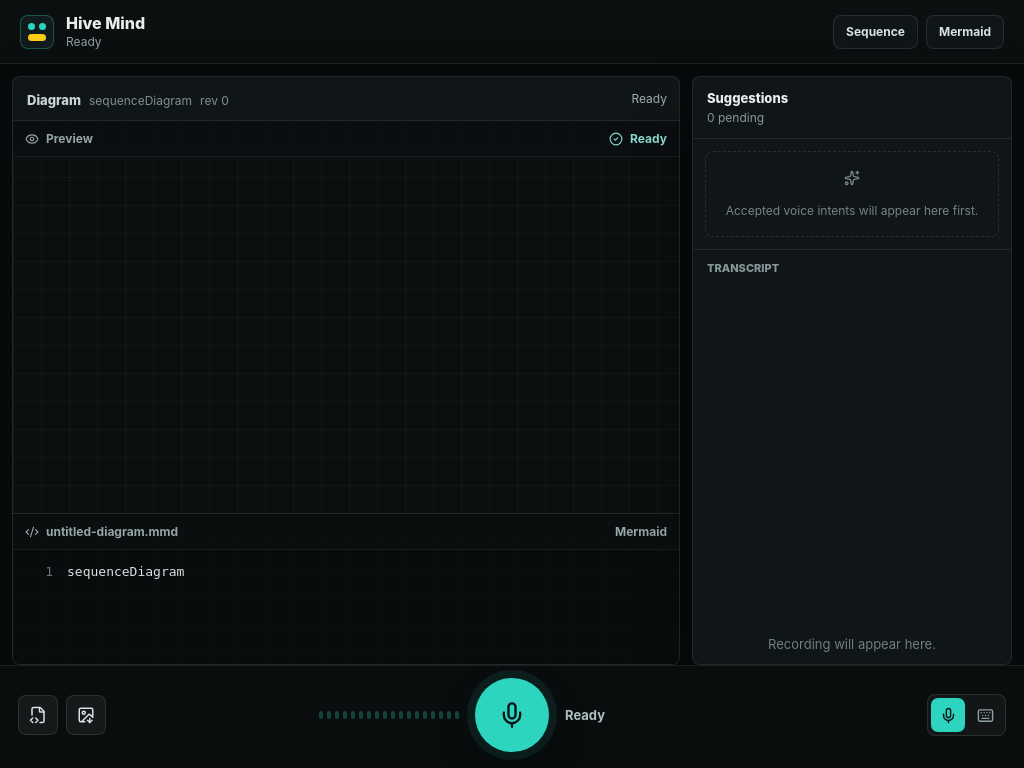
Hive Mind app › records speech and creates a validated suggestion without changing the source
Click the button named "start recording" at (512, 715), box [475, 678, 549, 752]
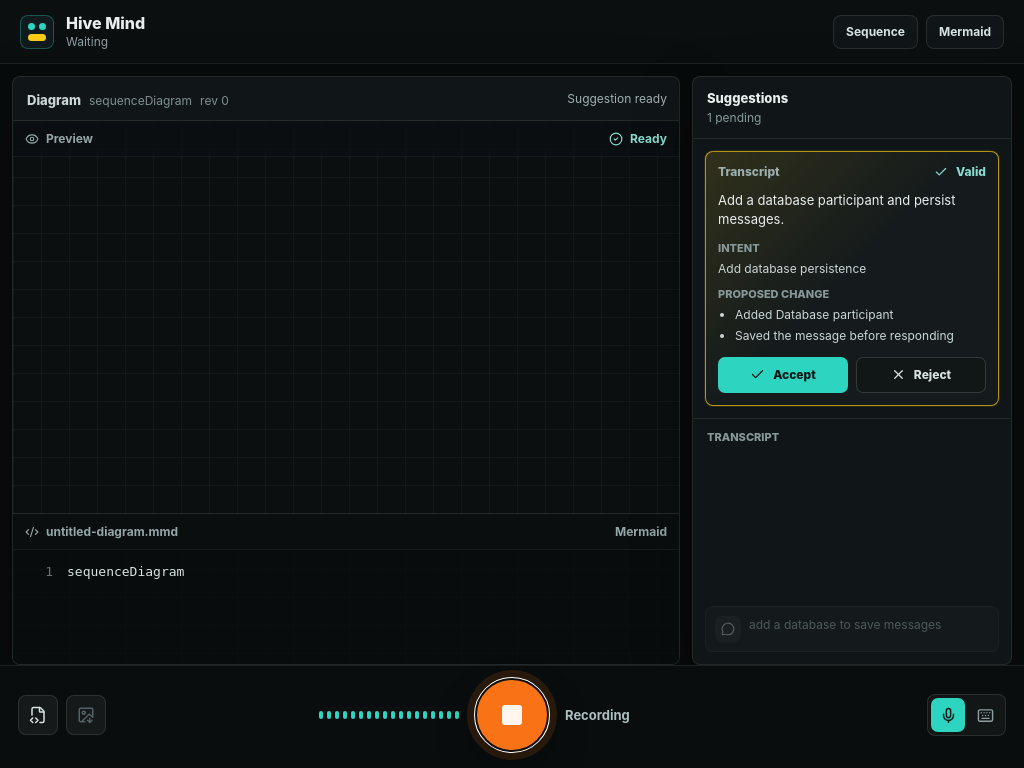
Expected: the button "Accept" is enabled, [718, 357, 848, 393]
Expected: the text "Add database persistence" is shown, [718, 261, 866, 276]
